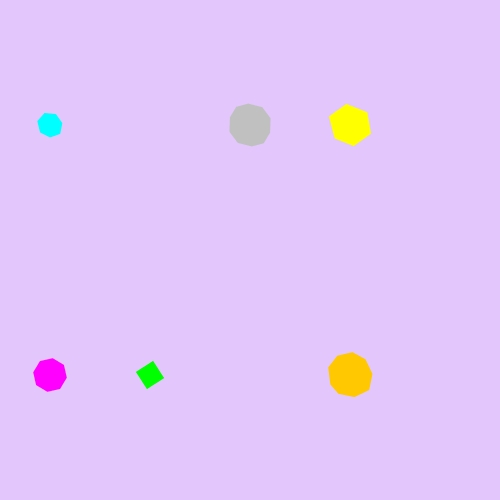decagon: (224, 101, 277, 149)
heptagon: (33, 109, 67, 141)
hexagon: (324, 103, 376, 147)
nonagon: (324, 350, 377, 401)
octagon: (29, 354, 71, 396)
quadrilateral: (132, 357, 169, 394)
